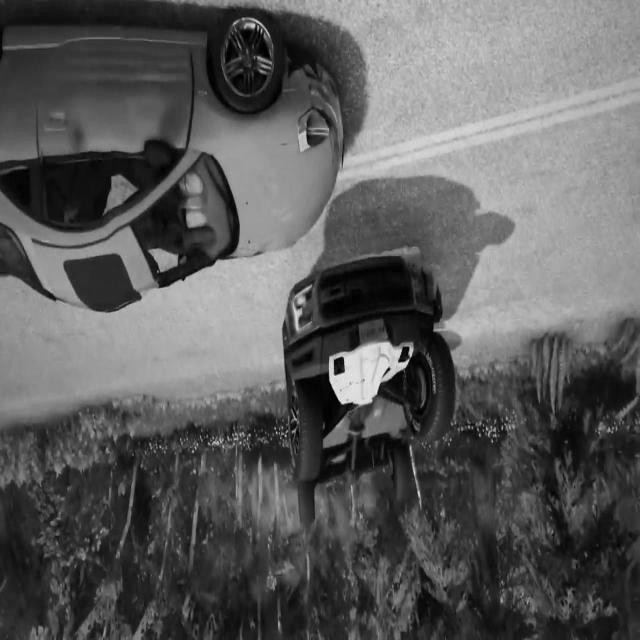severe: (280, 234, 460, 548)
